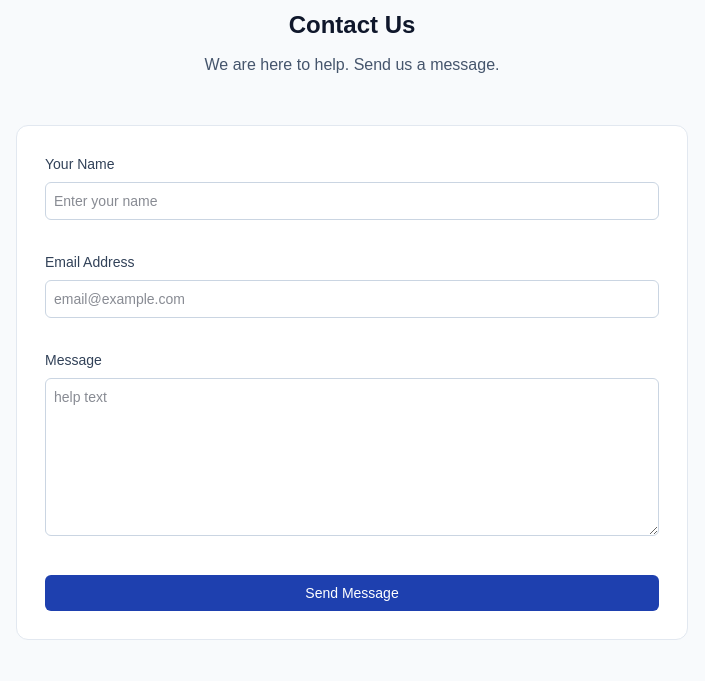
it: contact page- tests › invalid form email error- test
This screenshot has width=705, height=681.
Type "Rhea" into the field with placeholder "Enter your name" at coordinates (352, 201), box [45,182,659,220]
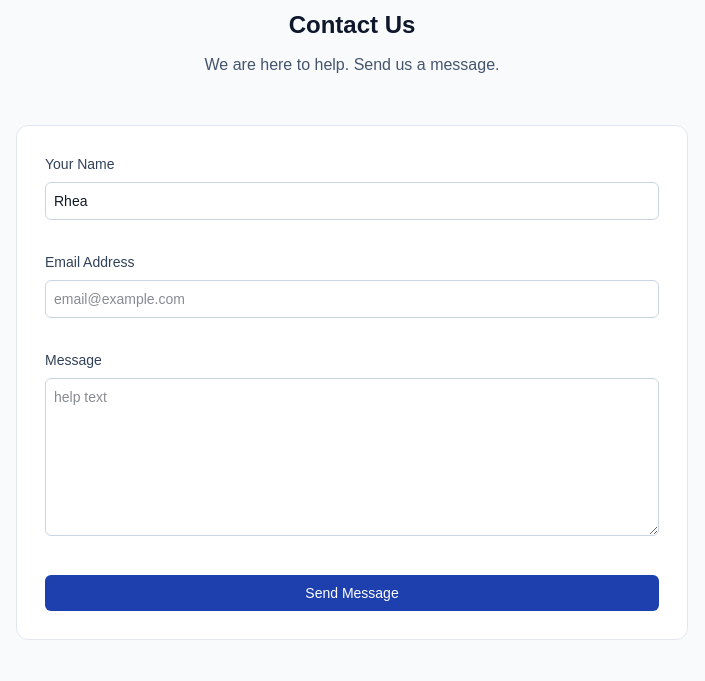
Type "abc12" into the field with placeholder "email@example.com" at coordinates (352, 299), box [45,280,659,318]
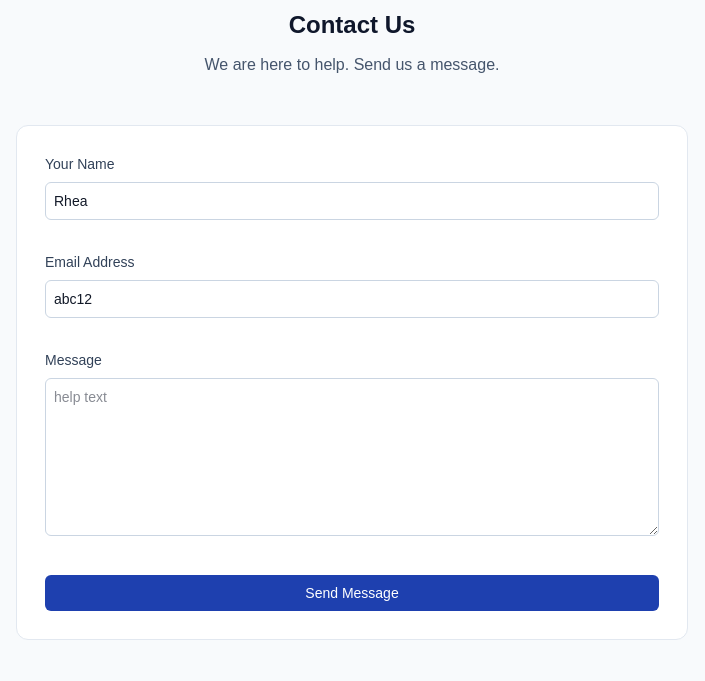
Type "hi, this is a valid message here." into the text box with placeholder "help text" at coordinates (352, 457), box [45,378,659,536]
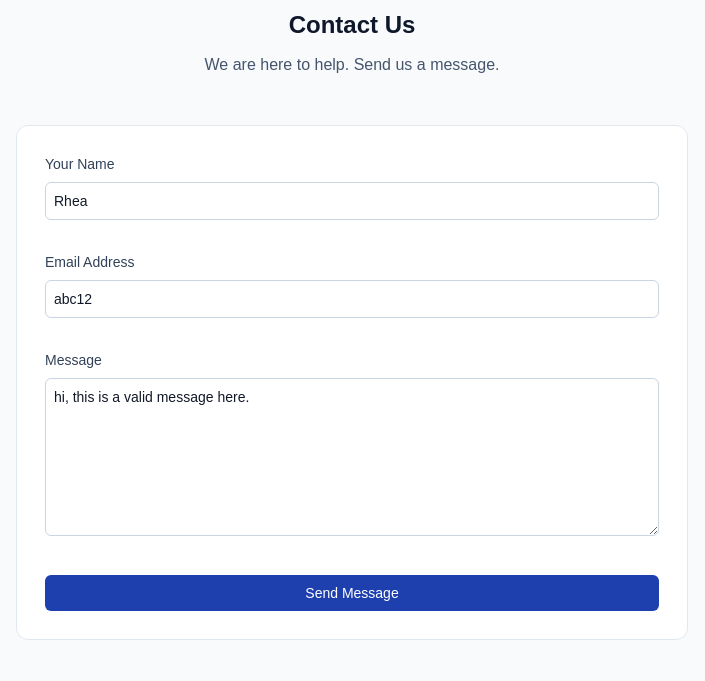
Click the button "Send Message" at coordinates (352, 593), box [45,575,659,611]
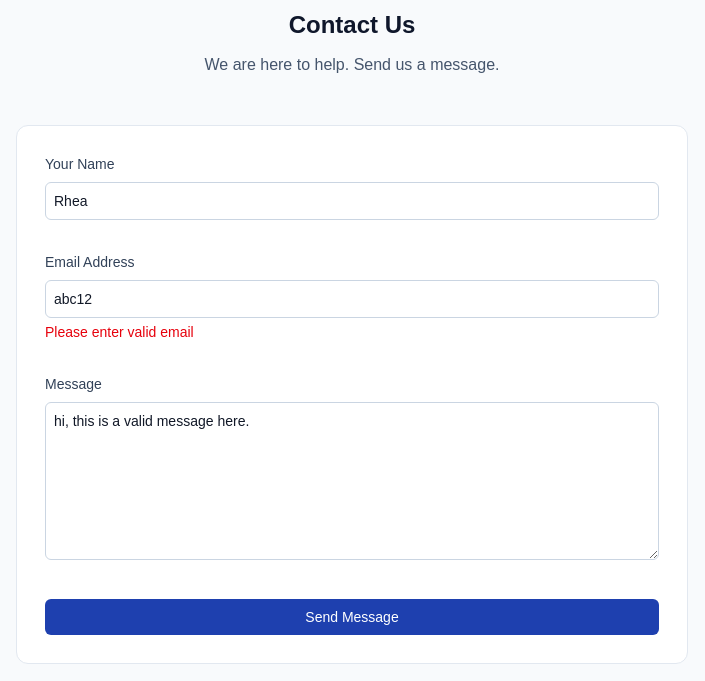
Expected: the text "Please enter valid email" is shown, [45,324,194,340]
